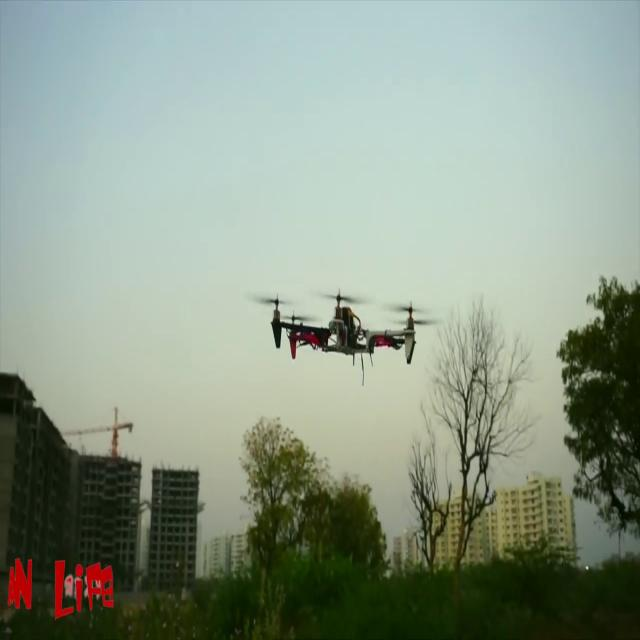drone: (250, 259, 442, 392)
